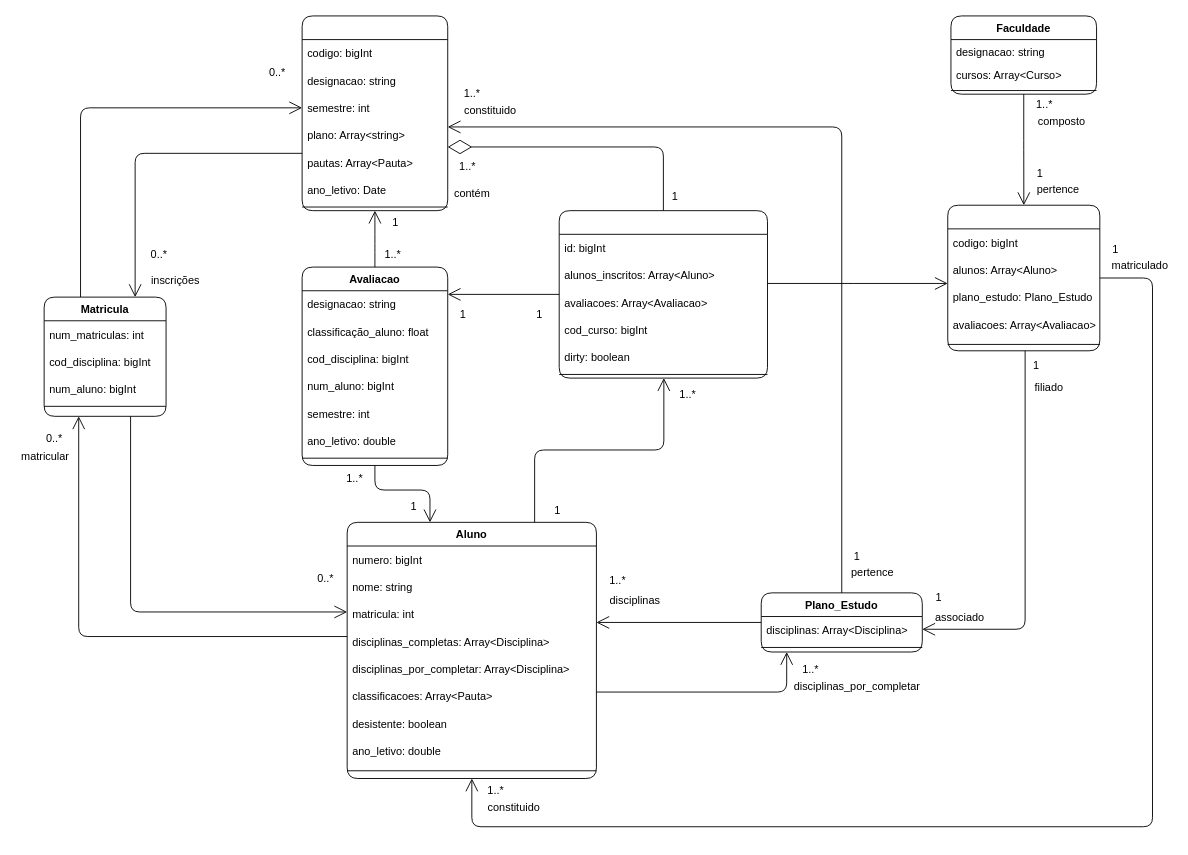
Some shapes in this 1188 by 855 pixel diagram are drawn without their labels. Each missing label, with the box of its shape:
Curso: (947, 204, 1100, 351)
Disciplina: (301, 15, 448, 211)
Pauta: (558, 210, 767, 378)
